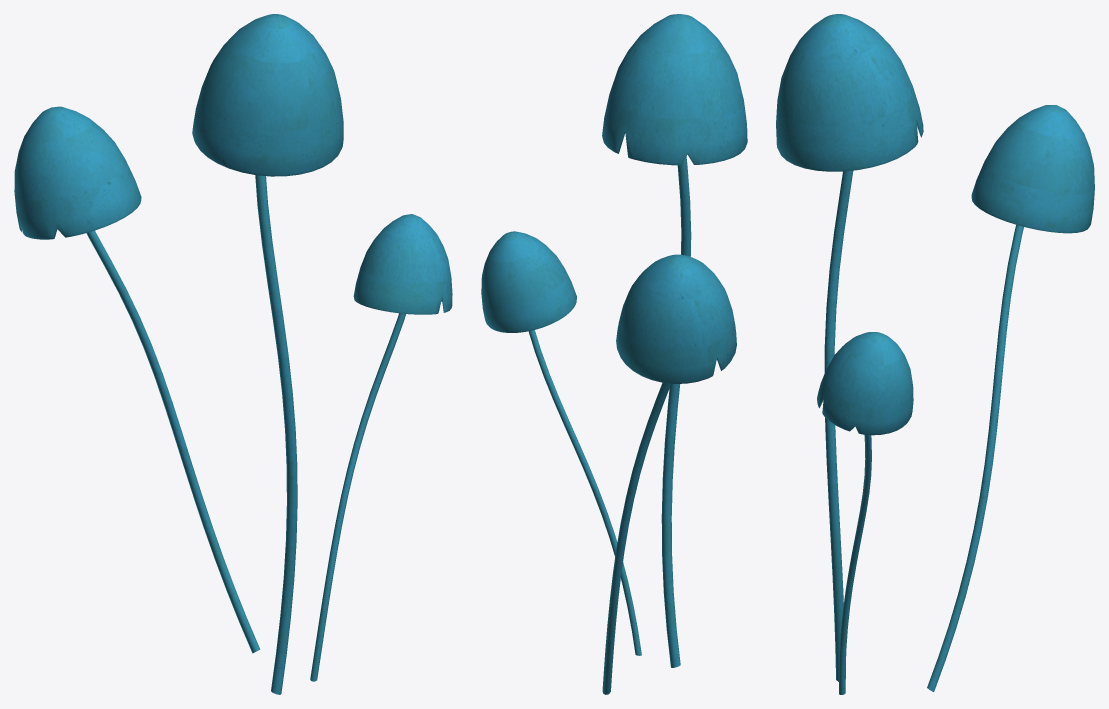
Rendered from Shrooms_01.fbx.
3 renders of one model, left to right at view 1: azimuth 30°, elevation 25°; view 2: azimuth 150°, elevation 25°; view 3: azimuth 270°, elevation 25°, orthographic. The views are drawn at different scales.
Visible parts, largest first — view 1: Shrooms.001; view 2: Shrooms.001; view 3: Shrooms.001.
Boxes of the visible parts, x1,y1,x2,y2 form: Shrooms.001: (14, 14, 452, 694); Shrooms.001: (481, 14, 747, 694); Shrooms.001: (776, 14, 1094, 694).
Size of the model in its own units: 5.11 by 4.3 by 9.88.
